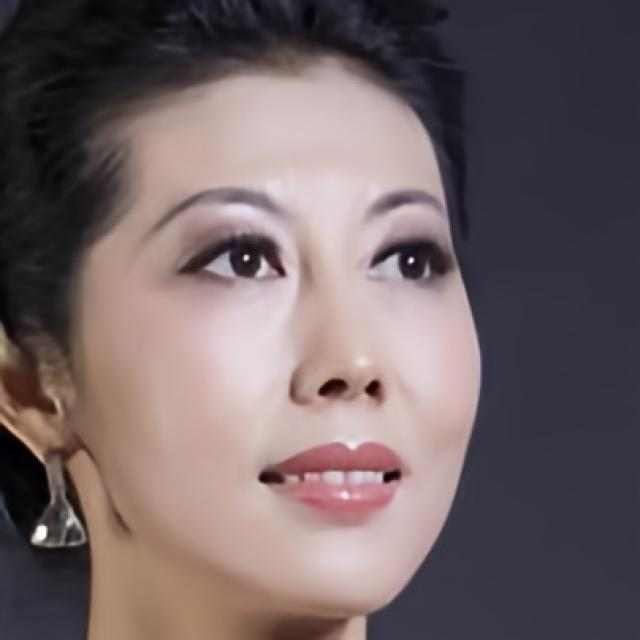neutral: (79, 44, 484, 616)
